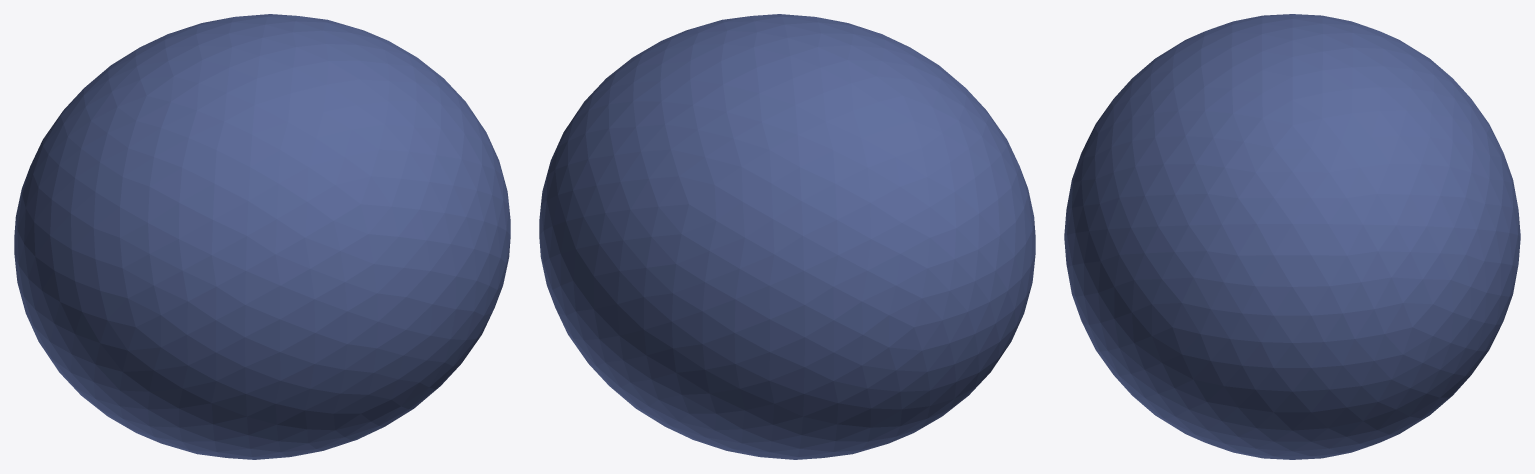
Rendered from navy_sikh_turban_standard.glb.
3 renders of one model, left to right at view 1: azimuth 30°, elevation 25°; view 2: azimuth 150°, elevation 25°; view 3: azimuth 270°, elevation 25°, orthographic.
Visible parts, largest first — view 1: turban; view 2: turban; view 3: turban.
Boxes of the visible parts, left/top/right/bottom form: turban: left=14, top=14, right=510, bottom=459; turban: left=539, top=14, right=1035, bottom=459; turban: left=1064, top=14, right=1520, bottom=459.
Bounding box in the file's own units: 0.198 × 0.171 × 0.18.
